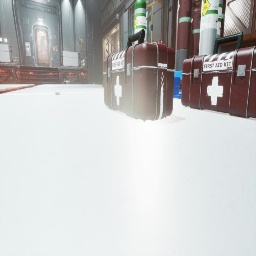0: (198, 0, 219, 56), (134, 0, 146, 44), (216, 0, 223, 54), (63, 80, 70, 84)
EmergencyPhone ,: (55, 45, 58, 51)
FireAlarm ,: (53, 47, 55, 51)
FireExtinguisher ]: (102, 81, 104, 87), (82, 67, 84, 68)
FirstAidBox ,: (103, 29, 175, 122), (181, 32, 256, 118), (189, 56, 198, 59)
NitrogenTank ,: (175, 0, 192, 71), (189, 0, 202, 58), (219, 0, 226, 54), (174, 9, 178, 71), (68, 66, 76, 67)
SafetySwitchPanel ,: (25, 42, 31, 56)
